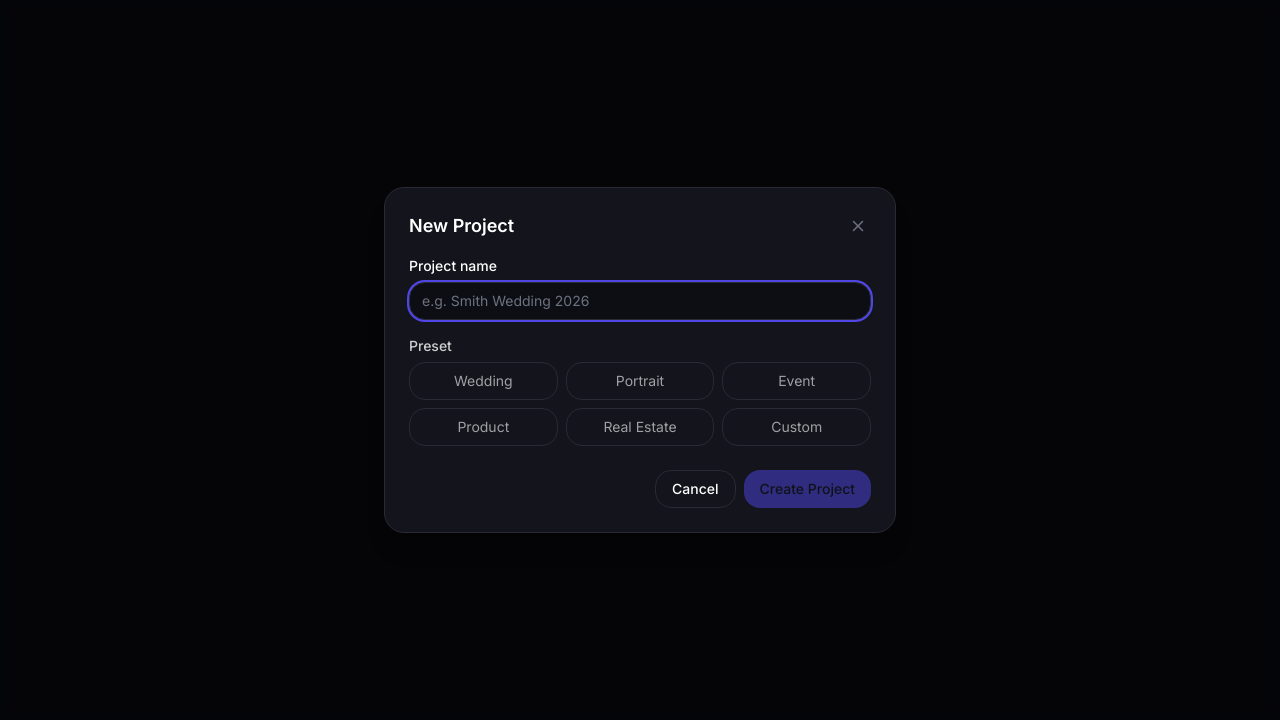
Test: NewProjectModal › submit button is enabled when name is filled
Type "My Project" into the field labelled "Project name" at (640, 301), box [409,282,871,320]
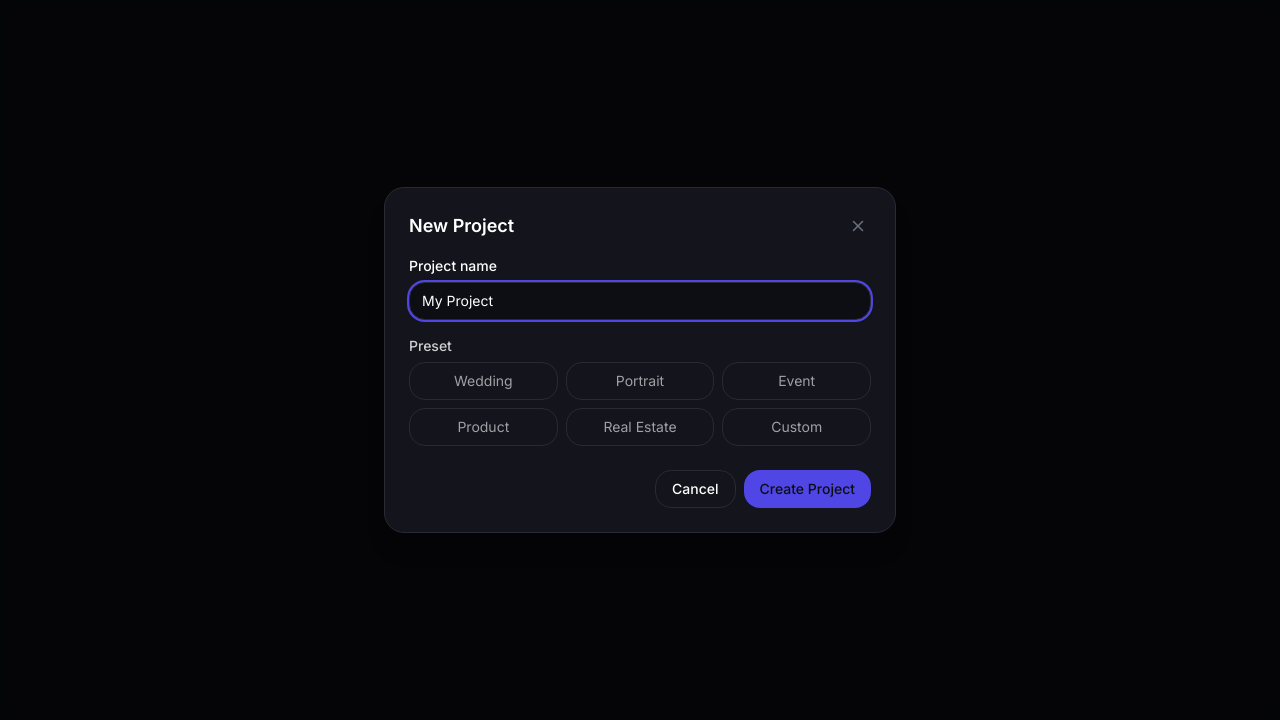
Now the button "Create Project" is enabled, box [744,470,871,508]
